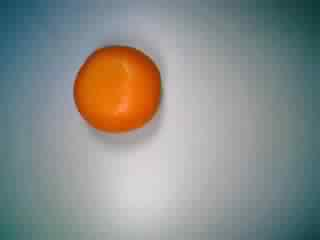orange: (69, 38, 165, 134)
